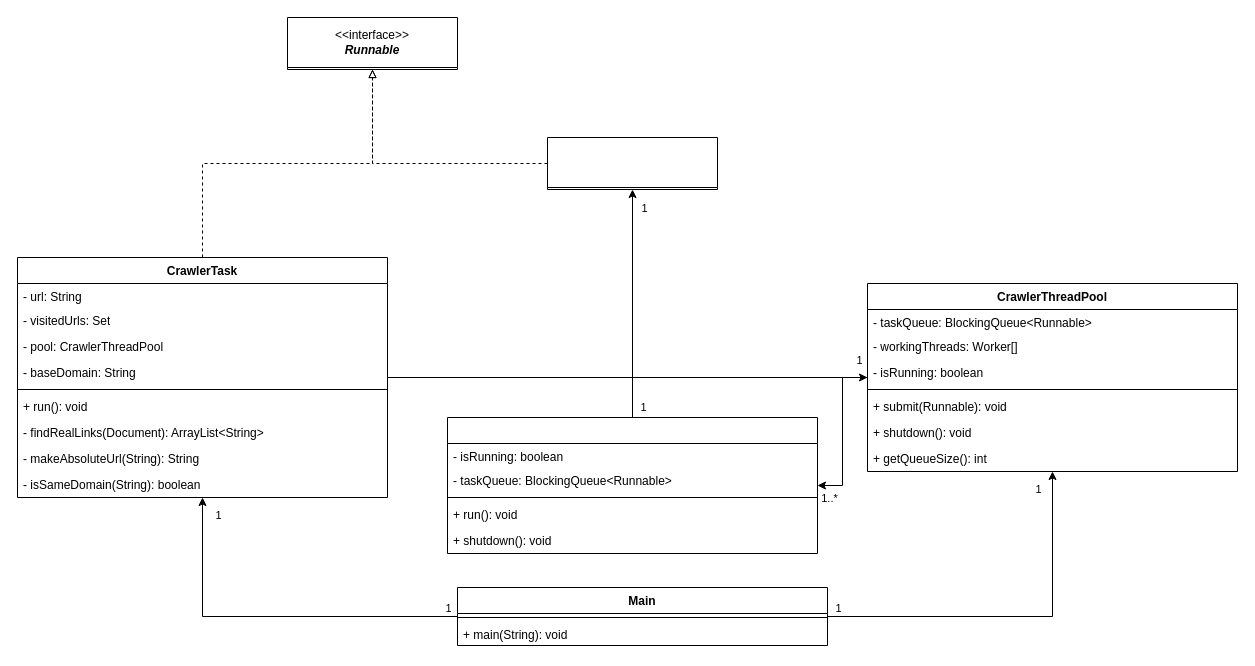
The diagram is 1255 pixels wide and 666 high, and some of its shapes have lost their labels. The shapes that lost their labels are listed below. From the top down, each one's box as (x1, y1, x2, y2) in pixels, then its label:
(546, 136, 718, 190): Thread
(446, 416, 818, 554): Worker
